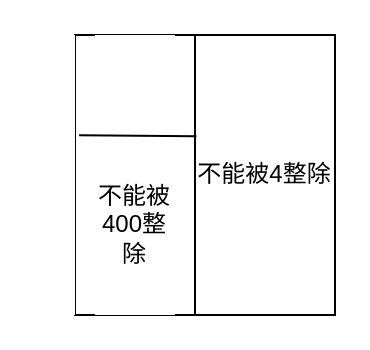
This 370x350 diagram has some shape labels left out. Each missing label, with the box of its shape:
能被400整除: (94, 34, 174, 134)
能被4整除: (34, 34, 74, 314)
